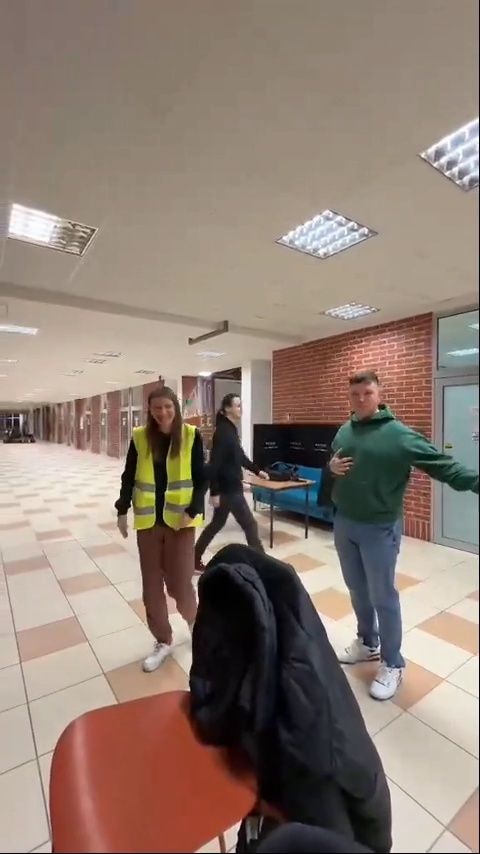no vest: (330, 368, 460, 671), (208, 389, 271, 545)
vest: (118, 387, 208, 655)
